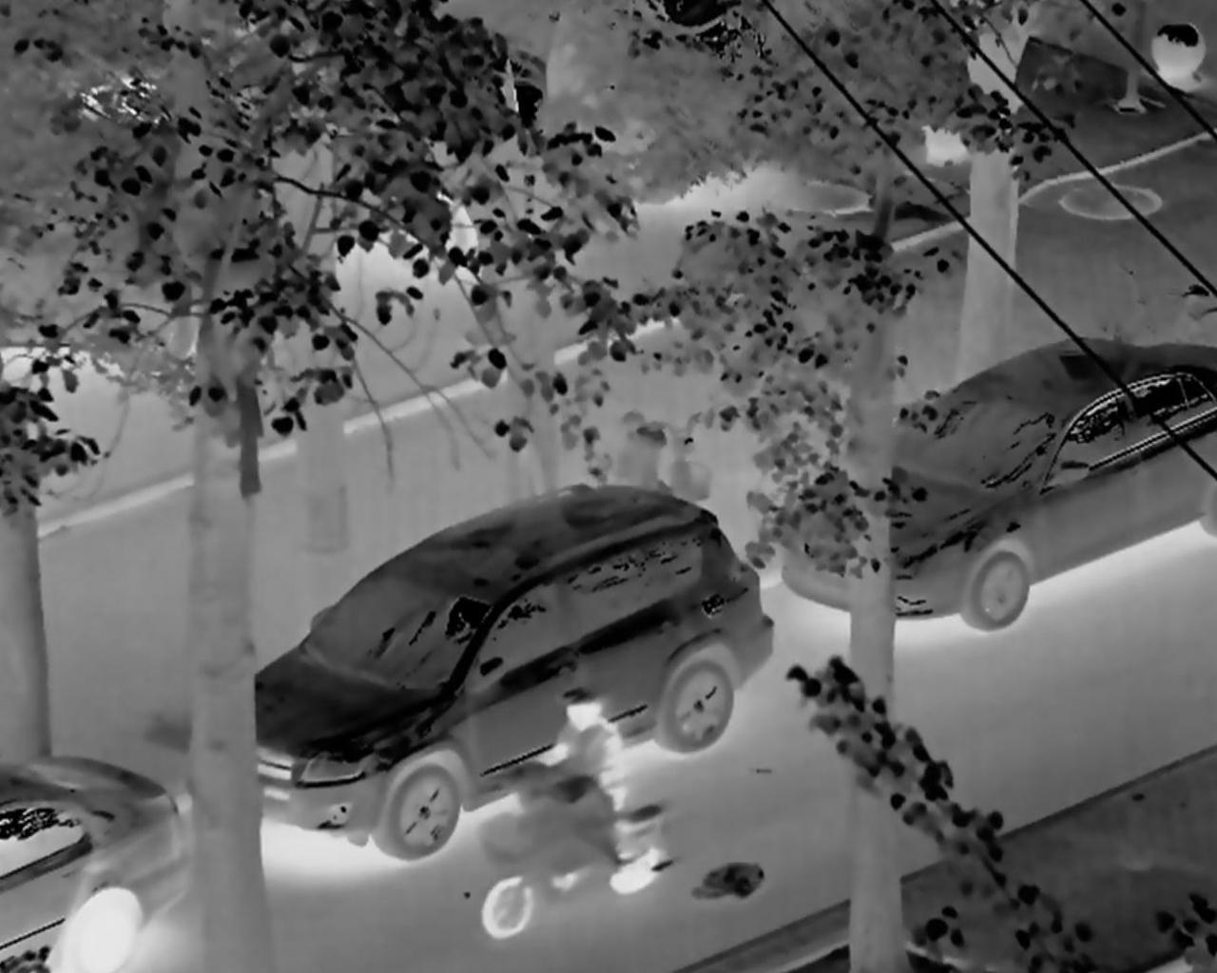person: (469, 679, 673, 951)
